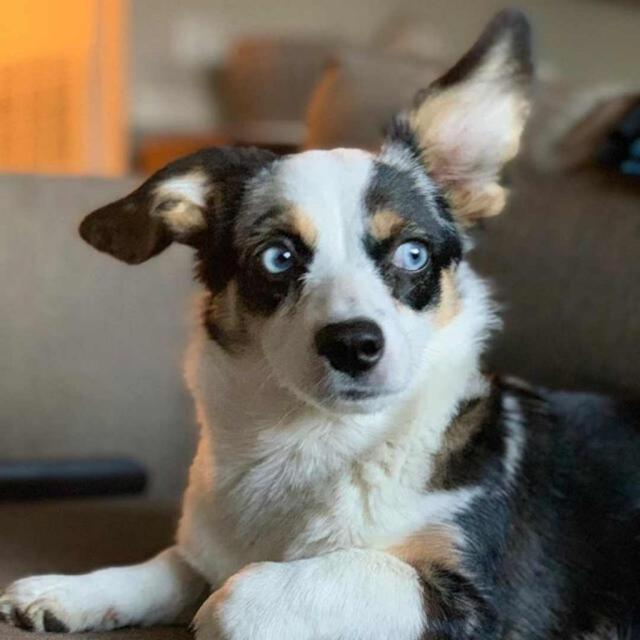dog: (74, 61, 551, 452)
